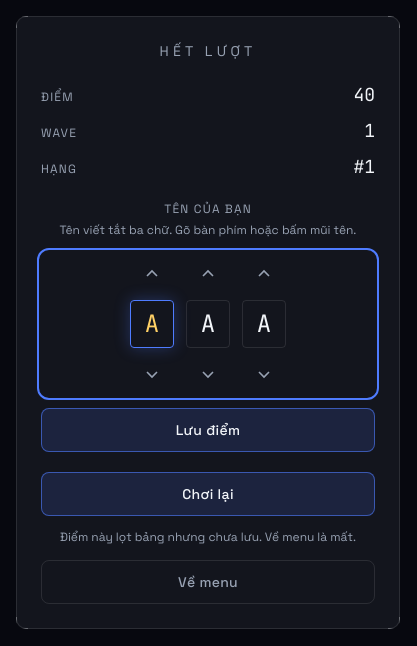
không để mất điểm âm thầm › KHÔNG cảnh báo sau khi đã lưu
Click the button "Lưu điểm".
click(208, 430)  # box [41,408,375,452]
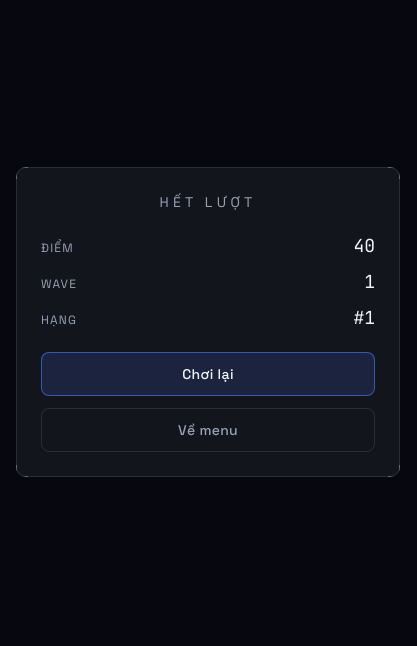
Expected: the text "Điểm này lọt bảng nhưng chưa lưu. Về menu là mất." is gone
